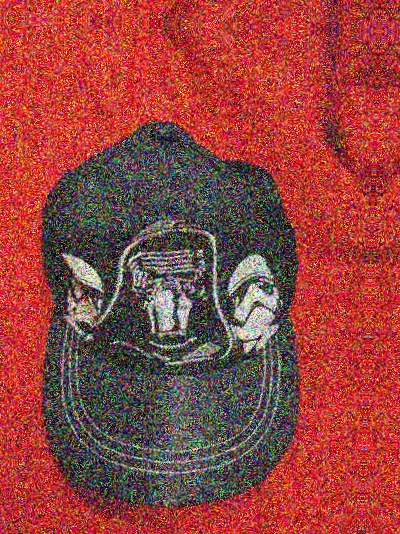Hat: (6, 96, 327, 511)
